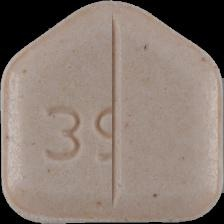43063-633: (0, 0, 224, 224)
